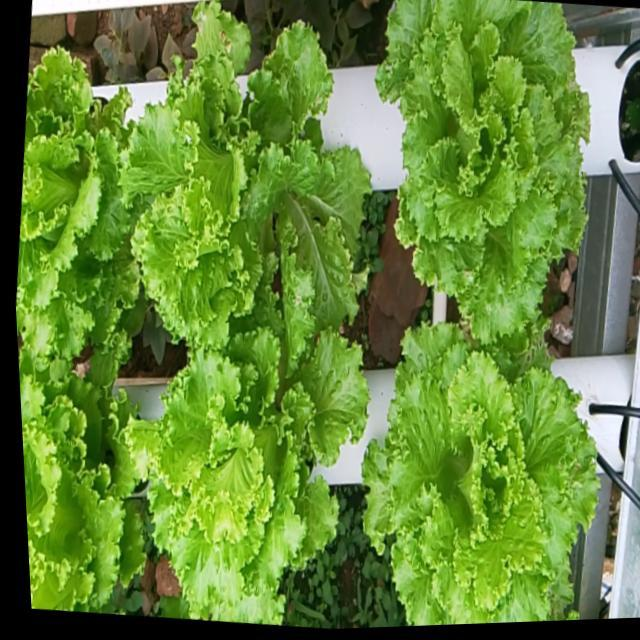Mature: (117, 0, 366, 331), (132, 294, 363, 623), (355, 315, 592, 626), (371, 0, 583, 341), (16, 35, 132, 347), (18, 340, 138, 612)
